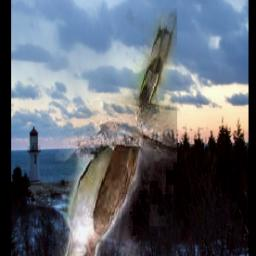Cuckoo: (51, 10, 178, 256)
